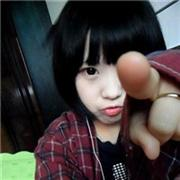face: (70, 34, 141, 123)
